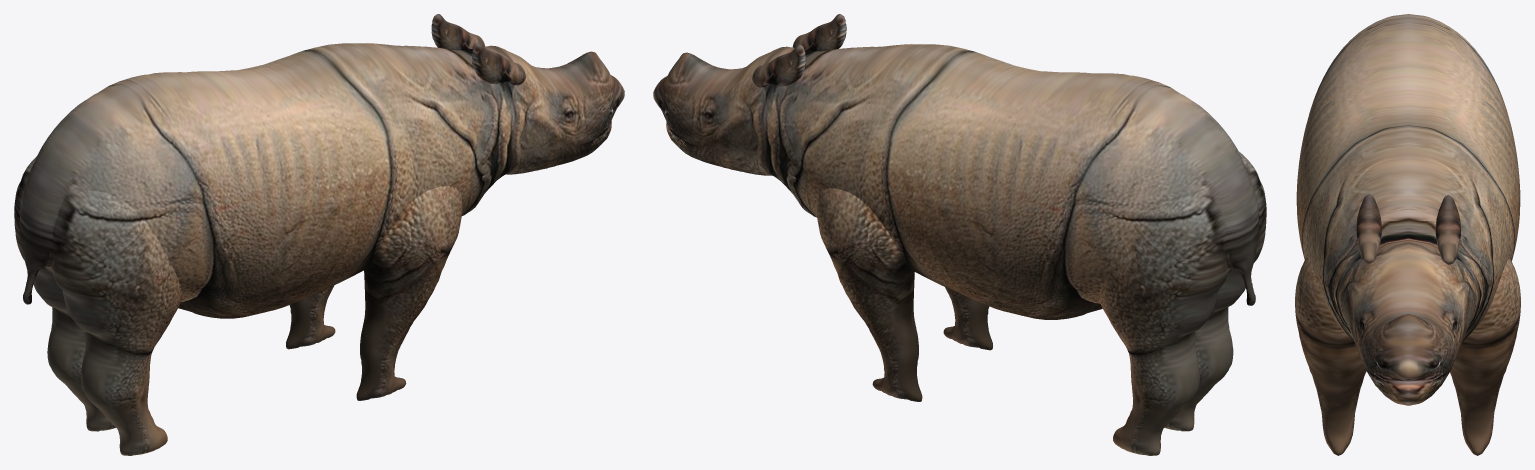
File: greater-one-horned-rhino.glb
The picture shows the model from 3 angles, left to right: view 1: azimuth 30°, elevation 25°; view 2: azimuth 150°, elevation 25°; view 3: azimuth 270°, elevation 25°; orthographic projection.
Parts seen in each view (by area): view 1: mm_frame (41); view 2: mm_frame (41); view 3: mm_frame (41).
Part boxes in pixels (<box>): mm_frame (41): <box>14,14,624,455</box>; mm_frame (41): <box>653,14,1266,455</box>; mm_frame (41): <box>1295,14,1520,455</box>.
Size of the model in its own units: 7.86 by 4.38 by 2.61.
Materials: 1 (1 with a texture image).
